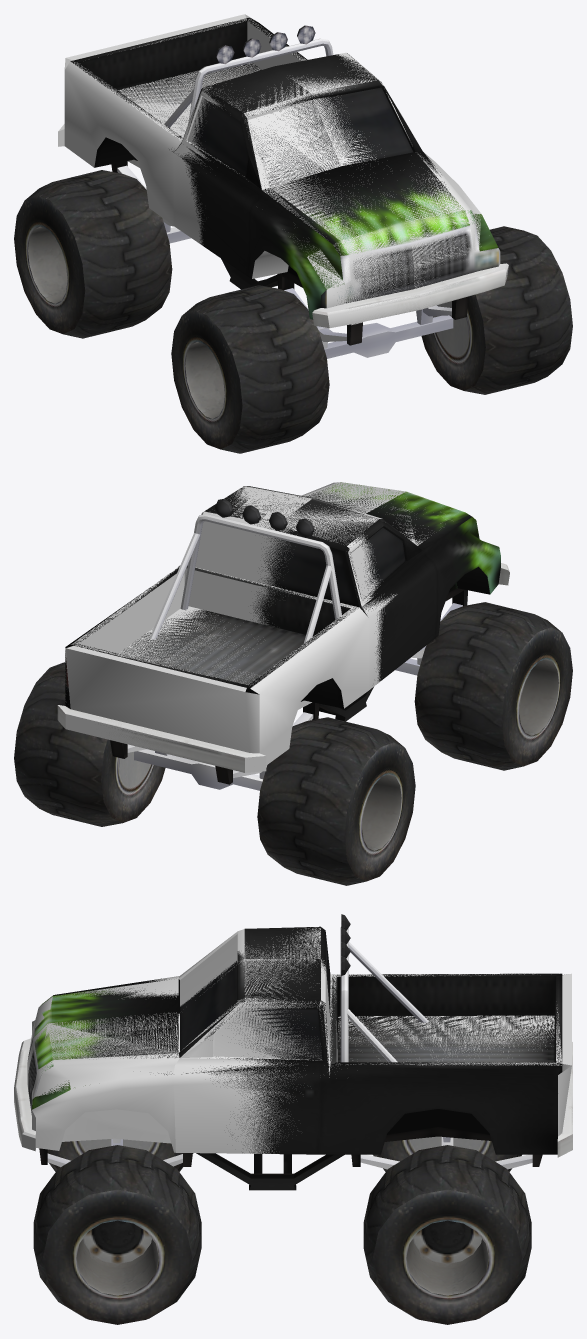
Rendered from monsterTruck.fbx.
The picture shows the model from 3 angles, top to bottom: view 1: azimuth 30°, elevation 25°; view 2: azimuth 150°, elevation 25°; view 3: azimuth 270°, elevation 25°; orthographic projection. The views are drawn at different scales.
Parts seen in each view (by area): view 1: car_body, fr_tire, rr_tire, fl_tire, ConvexHull_Hidden_01, ConvexHull_Hidden_00, ConvexHull_Hidden_04, ConvexHull_Hidden_02, front_axle, ConvexHull_Hidden_05, ConvexHull_Hidden_03; view 2: car_body, fr_tire, rr_tire, ConvexHull_Hidden_00, ConvexHull_Hidden_05, rl_tire, ConvexHull_Hidden_04, ConvexHull_Hidden_02, ConvexHull_Hidden_03, ConvexHull_Hidden_01, rear_axle; view 3: car_body, fl_tire, rl_tire, ConvexHull_Hidden_00, ConvexHull_Hidden_01, ConvexHull_Hidden_02, ConvexHull_Hidden_05, rr_tire, fr_tire, RL_spring.
Boxes of the visible parts, left/top/right/bottom form: car_body: left=58, top=17, right=506, bottom=345; fr_tire: left=171, top=285, right=329, bottom=453; rr_tire: left=14, top=170, right=172, bottom=338; fl_tire: left=416, top=226, right=572, bottom=394; ConvexHull_Hidden_01: left=252, top=154, right=508, bottom=327; ConvexHull_Hidden_00: left=173, top=52, right=434, bottom=245; ConvexHull_Hidden_04: left=64, top=61, right=182, bottom=225; ConvexHull_Hidden_02: left=58, top=63, right=260, bottom=167; front_axle: left=324, top=315, right=453, bottom=358; ConvexHull_Hidden_05: left=60, top=14, right=256, bottom=130; ConvexHull_Hidden_03: left=247, top=19, right=306, bottom=69; car_body: left=57, top=482, right=509, bottom=784; fr_tire: left=414, top=602, right=572, bottom=770; rr_tire: left=257, top=717, right=415, bottom=885; ConvexHull_Hidden_00: left=178, top=486, right=397, bottom=689; ConvexHull_Hidden_05: left=65, top=644, right=265, bottom=756; rl_tire: left=14, top=662, right=165, bottom=826; ConvexHull_Hidden_04: left=248, top=607, right=368, bottom=752; ConvexHull_Hidden_02: left=65, top=606, right=311, bottom=772; ConvexHull_Hidden_03: left=71, top=566, right=184, bottom=653; ConvexHull_Hidden_01: left=301, top=482, right=505, bottom=564; rear_axle: left=134, top=749, right=262, bottom=790; car_body: left=14, top=914, right=572, bottom=1190; fl_tire: left=33, top=1145, right=201, bottom=1324; rl_tire: left=363, top=1145, right=531, bottom=1324; ConvexHull_Hidden_00: left=173, top=927, right=337, bottom=1153; ConvexHull_Hidden_01: left=14, top=976, right=179, bottom=1152; ConvexHull_Hidden_02: left=338, top=1015, right=554, bottom=1061; ConvexHull_Hidden_05: left=556, top=973, right=572, bottom=1140; rr_tire: left=373, top=1136, right=521, bottom=1171; fr_tire: left=47, top=1139, right=193, bottom=1171; RL_spring: left=360, top=1154, right=532, bottom=1169.
Size of the model in its own units: 111 by 153 by 94.73.
2 materials, 2 textured.
